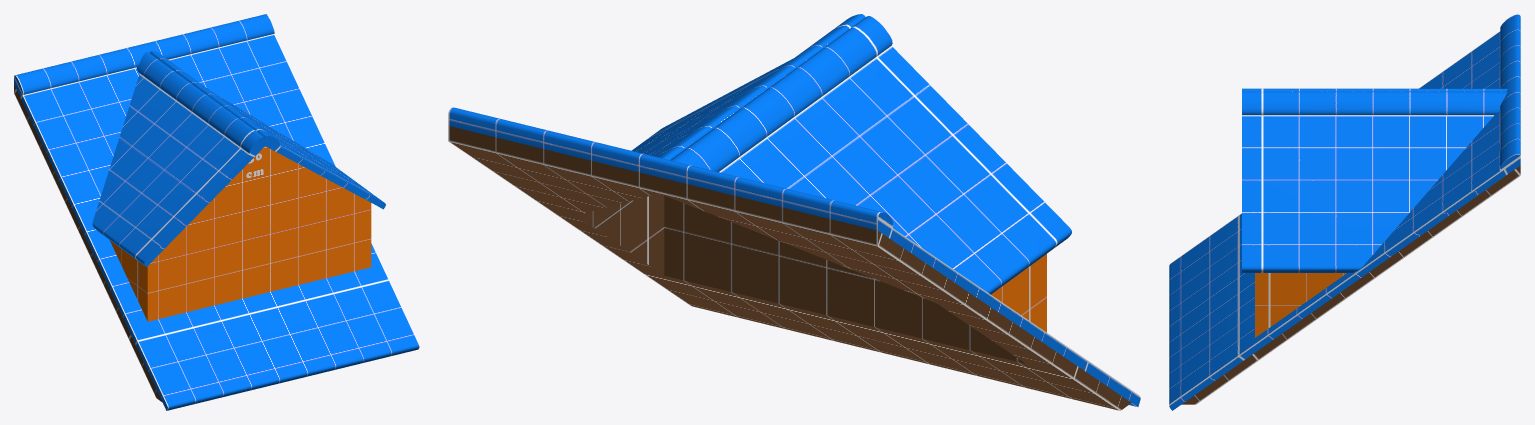
File: M01Roof01_5.FBX
3 views of the same model, side by side, from view 1: azimuth 30°, elevation 25°; view 2: azimuth 150°, elevation 25°; view 3: azimuth 270°, elevation 25° (orthographic). The views are drawn at different scales.
Parts seen in each view (by area): view 1: M01Roof01_5; view 2: M01Roof01_5; view 3: M01Roof01_5.
Part boxes in pixels (x1,y1,x2,y2): M01Roof01_5: (14,14,419,410); M01Roof01_5: (448,14,1140,410); M01Roof01_5: (1169,14,1520,410).
Size of what is drawn, in the model's own units: 4.5 by 3.84 by 4.76.
